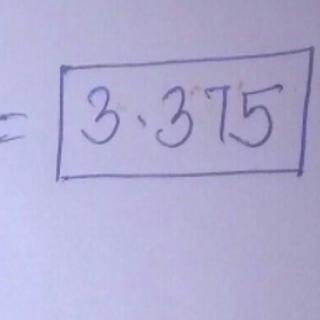.: (133, 110, 153, 130)
3: (156, 87, 195, 151), (85, 86, 118, 145)
5: (239, 85, 280, 150)
7: (203, 85, 229, 141)
